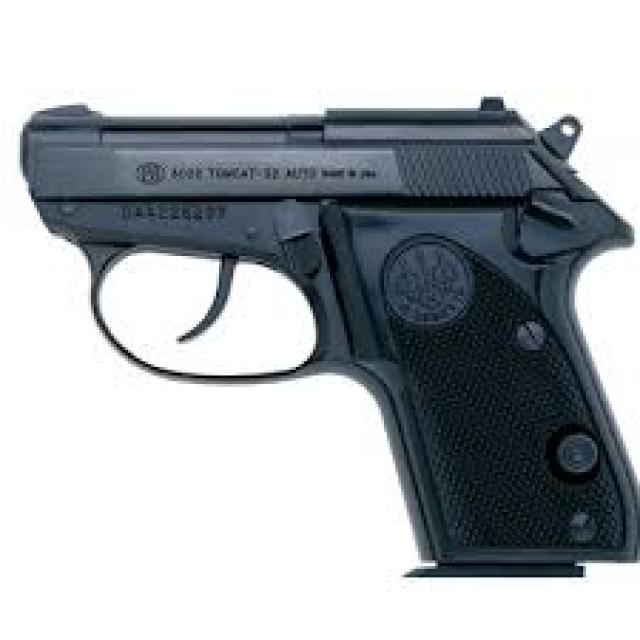pistol: (4, 84, 640, 584)
